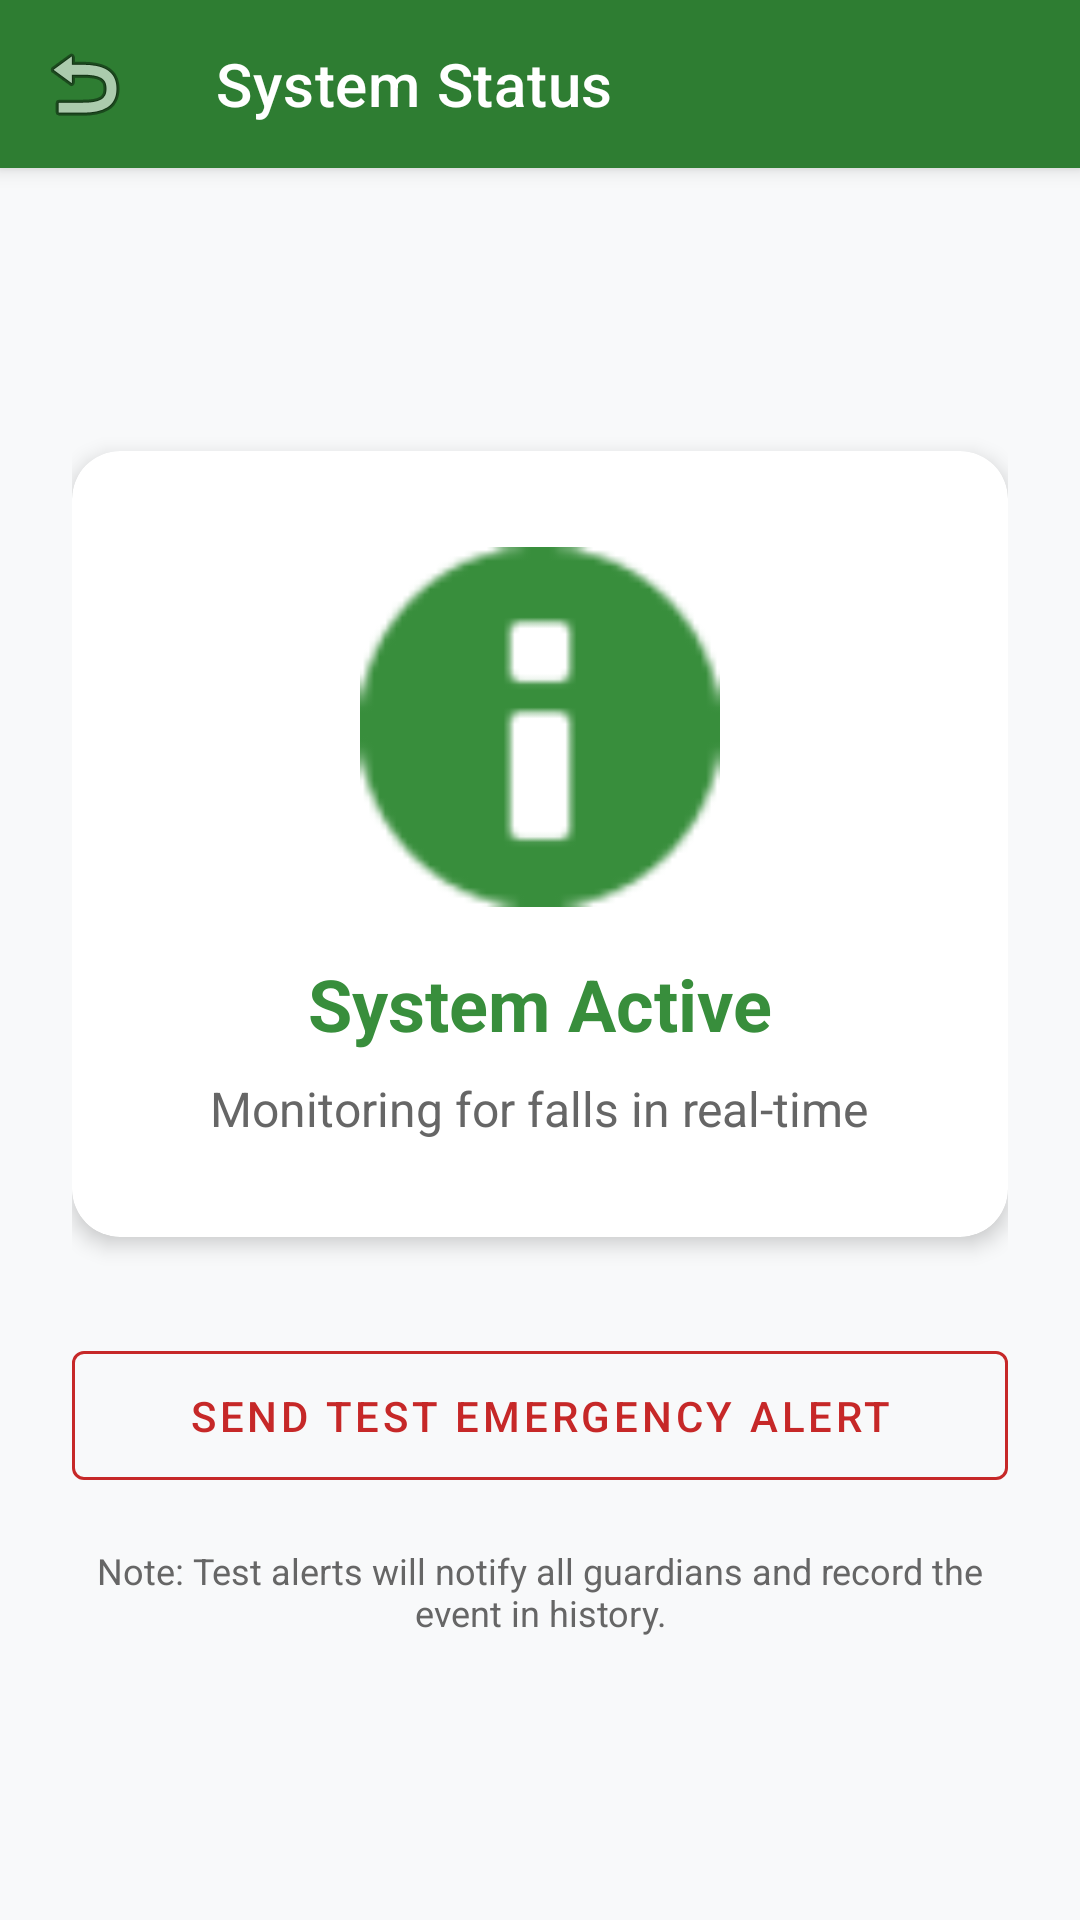

Locate icon controls on the screen. Image size 1080w x 1920h, boxes as (x1, y1, x2, y2).
info: (360, 547, 720, 907)
